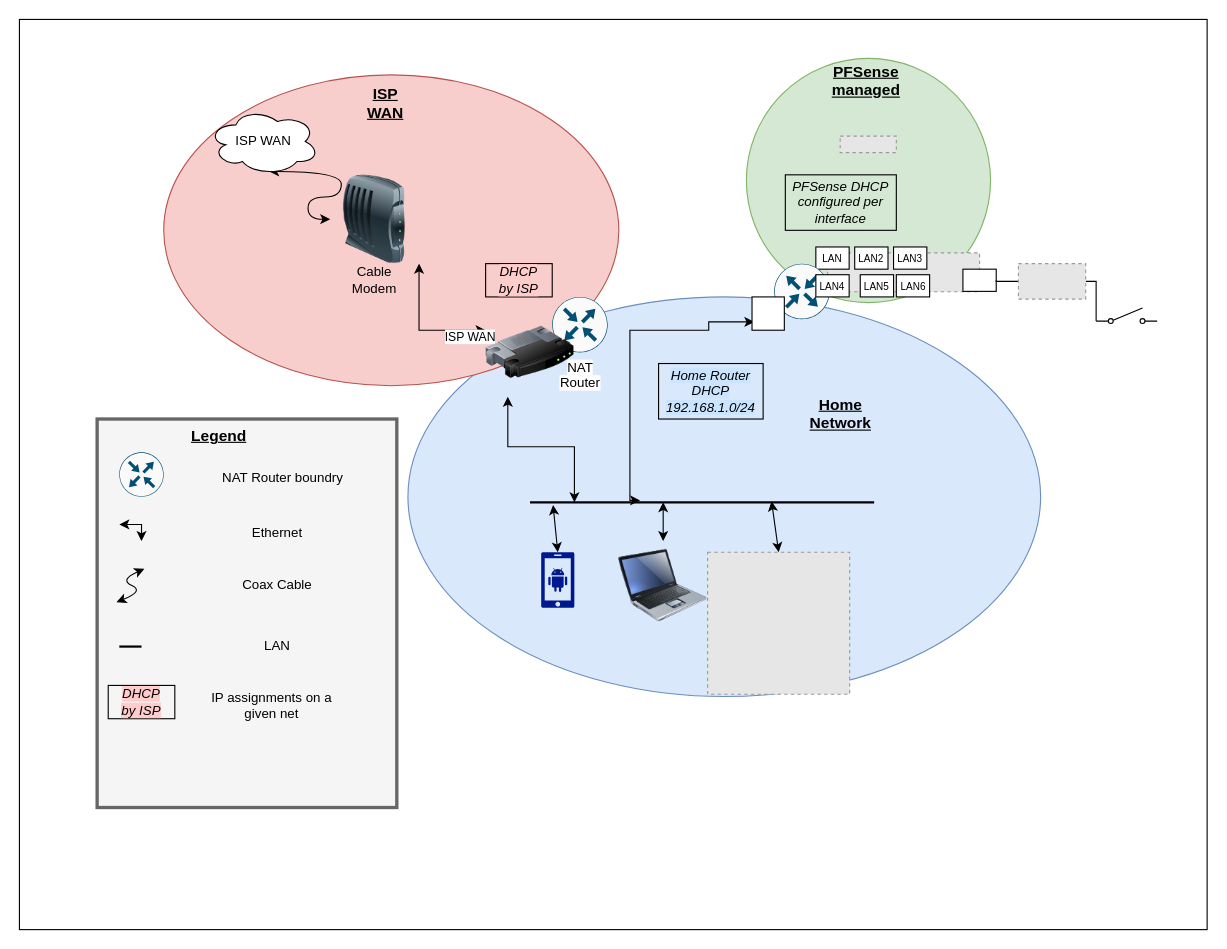
The diagram is 1227 pixels wide and 949 high, and some of its shapes have lost their labels. Grey dashed boxes stand in for pictures. The shapes that lost their labels are listed below. From the top down, each one's box as (x1, y1, x2, y2) in pixels, then its label:
(962, 268, 996, 291): vmnic0
(751, 296, 784, 330): WAN
